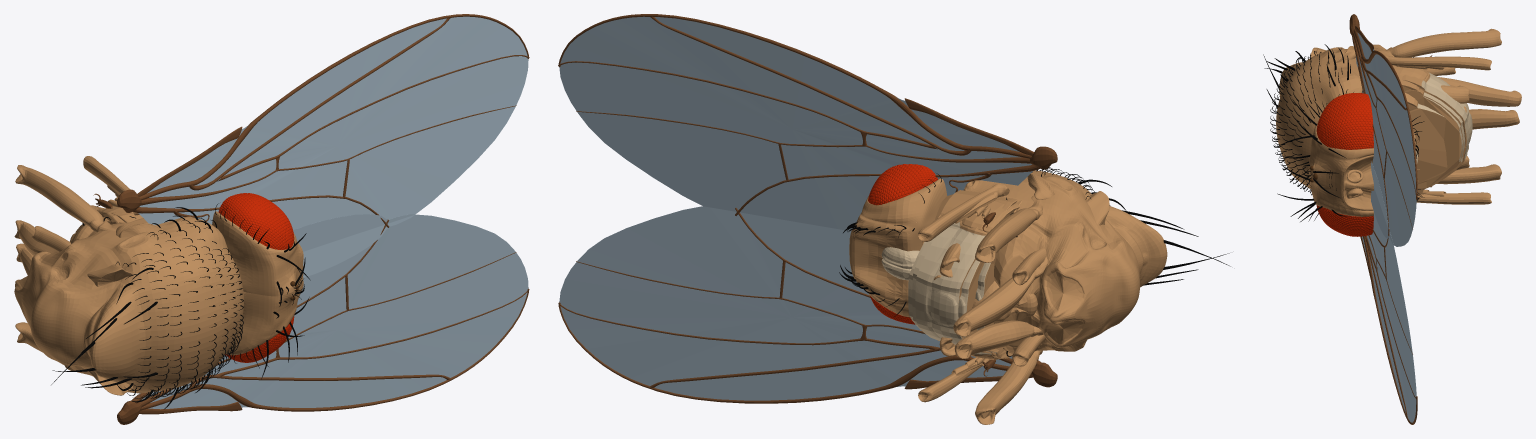
File: flybody.glb
The picture shows the model from 3 angles, left to right: view 1: azimuth 30°, elevation 25°; view 2: azimuth 150°, elevation 25°; view 3: azimuth 270°, elevation 25°; orthographic projection. The views are drawn at different scales.
Visible parts, largest first — view 1: r_wing__vis__r_wing_membrane, l_wing__vis__l_wing_membrane, c_thorax__vis__c_thorax_body, r_wing__vis__r_wing_brown, c_head__vis__c_head_body, l_wing__vis__l_wing_brown, c_thorax__vis__c_thorax_black, c_head__vis__c_head_red, rm_trochanterfemur__vis__rm_trochanterfemur_body, c_head__vis__c_head_black, rm_tibia__vis__rm_tibia_body, rf_trochanterfemur__vis__rf_trochanterfemur_body (+3 smaller); view 2: r_wing__vis__r_wing_membrane, l_wing__vis__l_wing_membrane, c_thorax__vis__c_thorax_body, r_wing__vis__r_wing_brown, c_head__vis__c_head_body, l_wing__vis__l_wing_brown, c_abdomen4__vis__c_abdomen4_lower, c_head__vis__c_head_red, rf_trochanterfemur__vis__rf_trochanterfemur_body, c_abdomen5__vis__c_abdomen5_lower, lf_trochanterfemur__vis__lf_trochanterfemur_body, lm_trochanterfemur__vis__lm_trochanterfemur_body (+7 smaller); view 3: r_wing__vis__r_wing_membrane, c_thorax__vis__c_thorax_body, l_wing__vis__l_wing_membrane, c_head__vis__c_head_body, c_head__vis__c_head_red, c_abdomen3__vis__c_abdomen3_body, r_wing__vis__r_wing_brown, rm_trochanterfemur__vis__rm_trochanterfemur_body, c_thorax__vis__c_thorax_black, l_wing__vis__l_wing_brown, c_abdomen6__vis__c_abdomen6_body, rf_trochanterfemur__vis__rf_trochanterfemur_body (+10 smaller).
Boxes of the visible parts, x1,y1,x2,y2 form: r_wing__vis__r_wing_membrane: [138, 16, 528, 277]; l_wing__vis__l_wing_membrane: [138, 214, 528, 409]; c_thorax__vis__c_thorax_body: [14, 216, 244, 393]; r_wing__vis__r_wing_brown: [117, 14, 529, 227]; c_head__vis__c_head_body: [212, 211, 303, 355]; l_wing__vis__l_wing_brown: [117, 219, 529, 424]; c_thorax__vis__c_thorax_black: [51, 207, 243, 409]; c_head__vis__c_head_red: [218, 193, 294, 362]; rm_trochanterfemur__vis__rm_trochanterfemur_body: [15, 165, 116, 231]; c_head__vis__c_head_black: [215, 203, 310, 379]; rm_tibia__vis__rm_tibia_body: [83, 156, 139, 215]; rf_trochanterfemur__vis__rf_trochanterfemur_body: [14, 220, 58, 255]; r_wing__vis__r_wing_membrane: [559, 14, 1032, 231]; l_wing__vis__l_wing_membrane: [559, 206, 1012, 400]; c_thorax__vis__c_thorax_body: [964, 170, 1167, 353]; r_wing__vis__r_wing_brown: [558, 14, 1057, 215]; c_head__vis__c_head_body: [849, 178, 947, 317]; l_wing__vis__l_wing_brown: [558, 208, 1057, 403]; c_abdomen4__vis__c_abdomen4_lower: [912, 229, 991, 354]; c_head__vis__c_head_red: [868, 164, 937, 324]; rf_trochanterfemur__vis__rf_trochanterfemur_body: [953, 257, 1047, 336]; c_abdomen5__vis__c_abdomen5_lower: [915, 222, 992, 354]; lf_trochanterfemur__vis__lf_trochanterfemur_body: [955, 320, 1043, 359]; lm_trochanterfemur__vis__lm_trochanterfemur_body: [975, 350, 1042, 424]; r_wing__vis__r_wing_membrane: [1356, 32, 1416, 246]; c_thorax__vis__c_thorax_body: [1276, 44, 1386, 188]; l_wing__vis__l_wing_membrane: [1362, 161, 1416, 422]; c_head__vis__c_head_body: [1308, 120, 1415, 216]; c_head__vis__c_head_red: [1316, 93, 1373, 236]; c_abdomen3__vis__c_abdomen3_body: [1405, 93, 1447, 184]; r_wing__vis__r_wing_brown: [1349, 14, 1417, 235]; rm_trochanterfemur__vis__rm_trochanterfemur_body: [1377, 28, 1501, 57]; c_thorax__vis__c_thorax_black: [1263, 44, 1413, 195]; l_wing__vis__l_wing_brown: [1360, 229, 1417, 424]; c_abdomen6__vis__c_abdomen6_body: [1404, 89, 1461, 194]; rf_trochanterfemur__vis__rf_trochanterfemur_body: [1438, 77, 1521, 106].
Bounding box in the file's own units: 0.00338 × 0.0021 × 0.00155.
